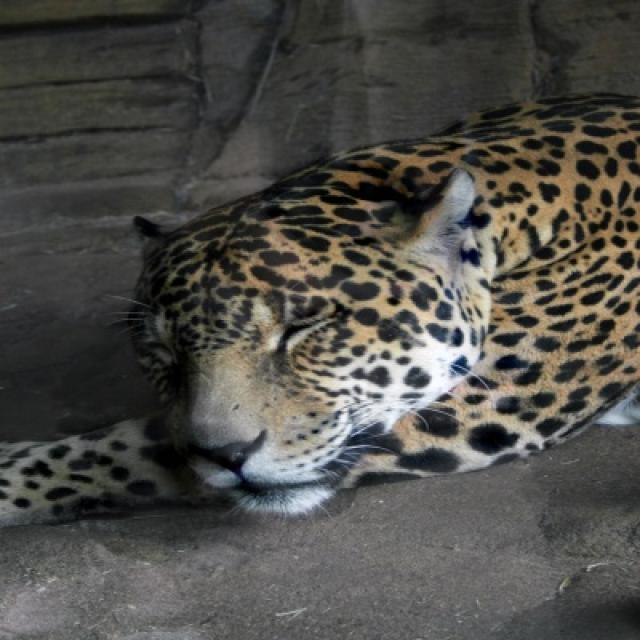Jaguar: (0, 75, 638, 553)
